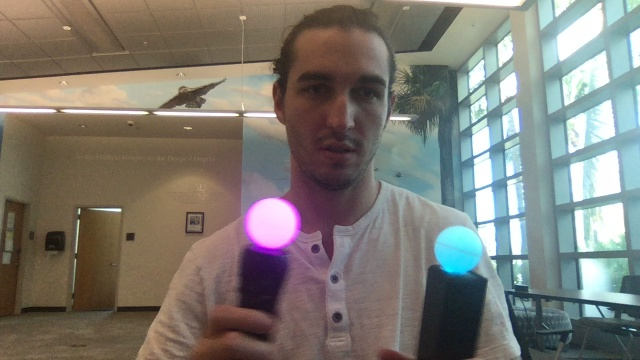wand: (248, 198, 298, 249), (436, 226, 484, 274)
